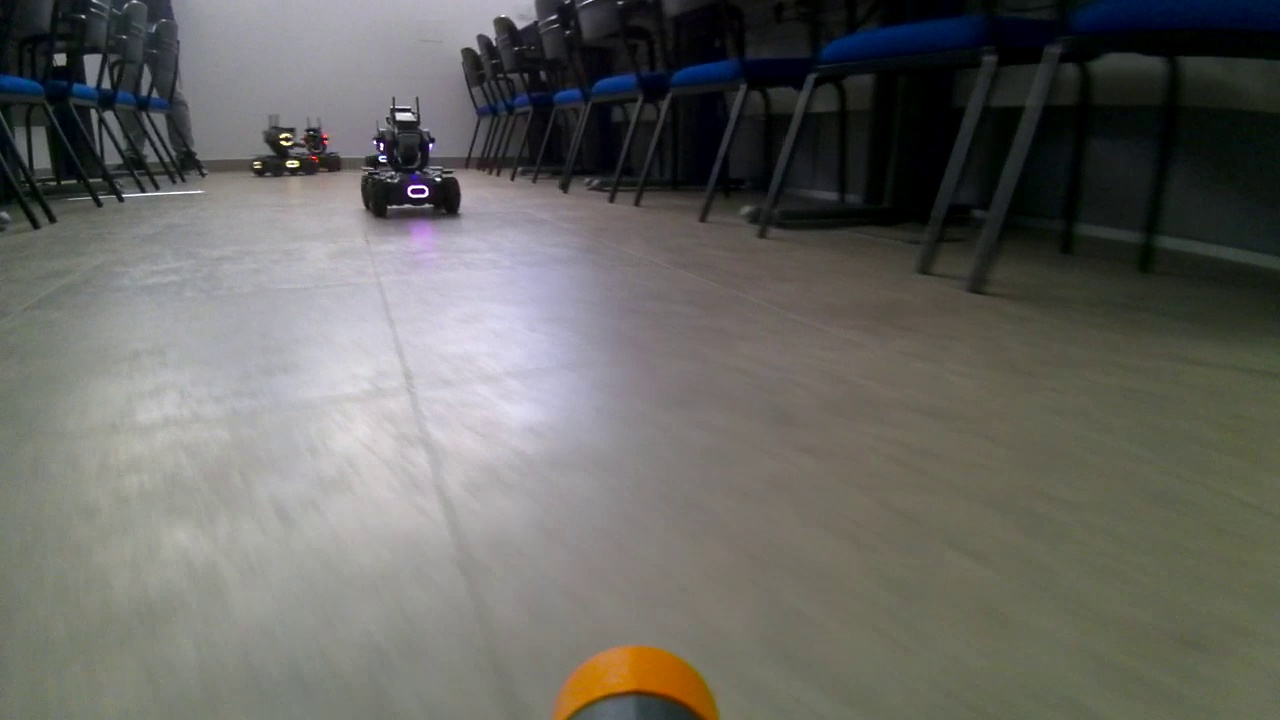robot: (358, 95, 469, 224), (250, 115, 321, 179), (301, 123, 338, 177)
